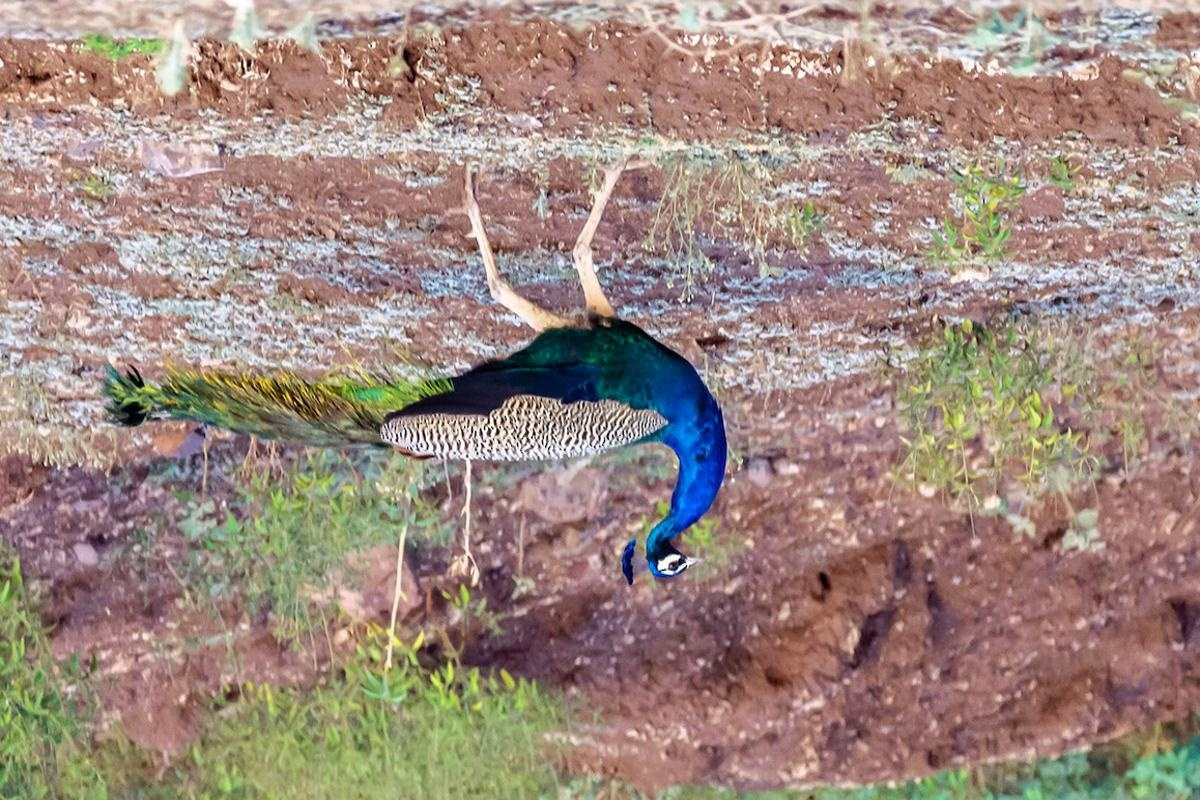peacock: (157, 158, 747, 594)
